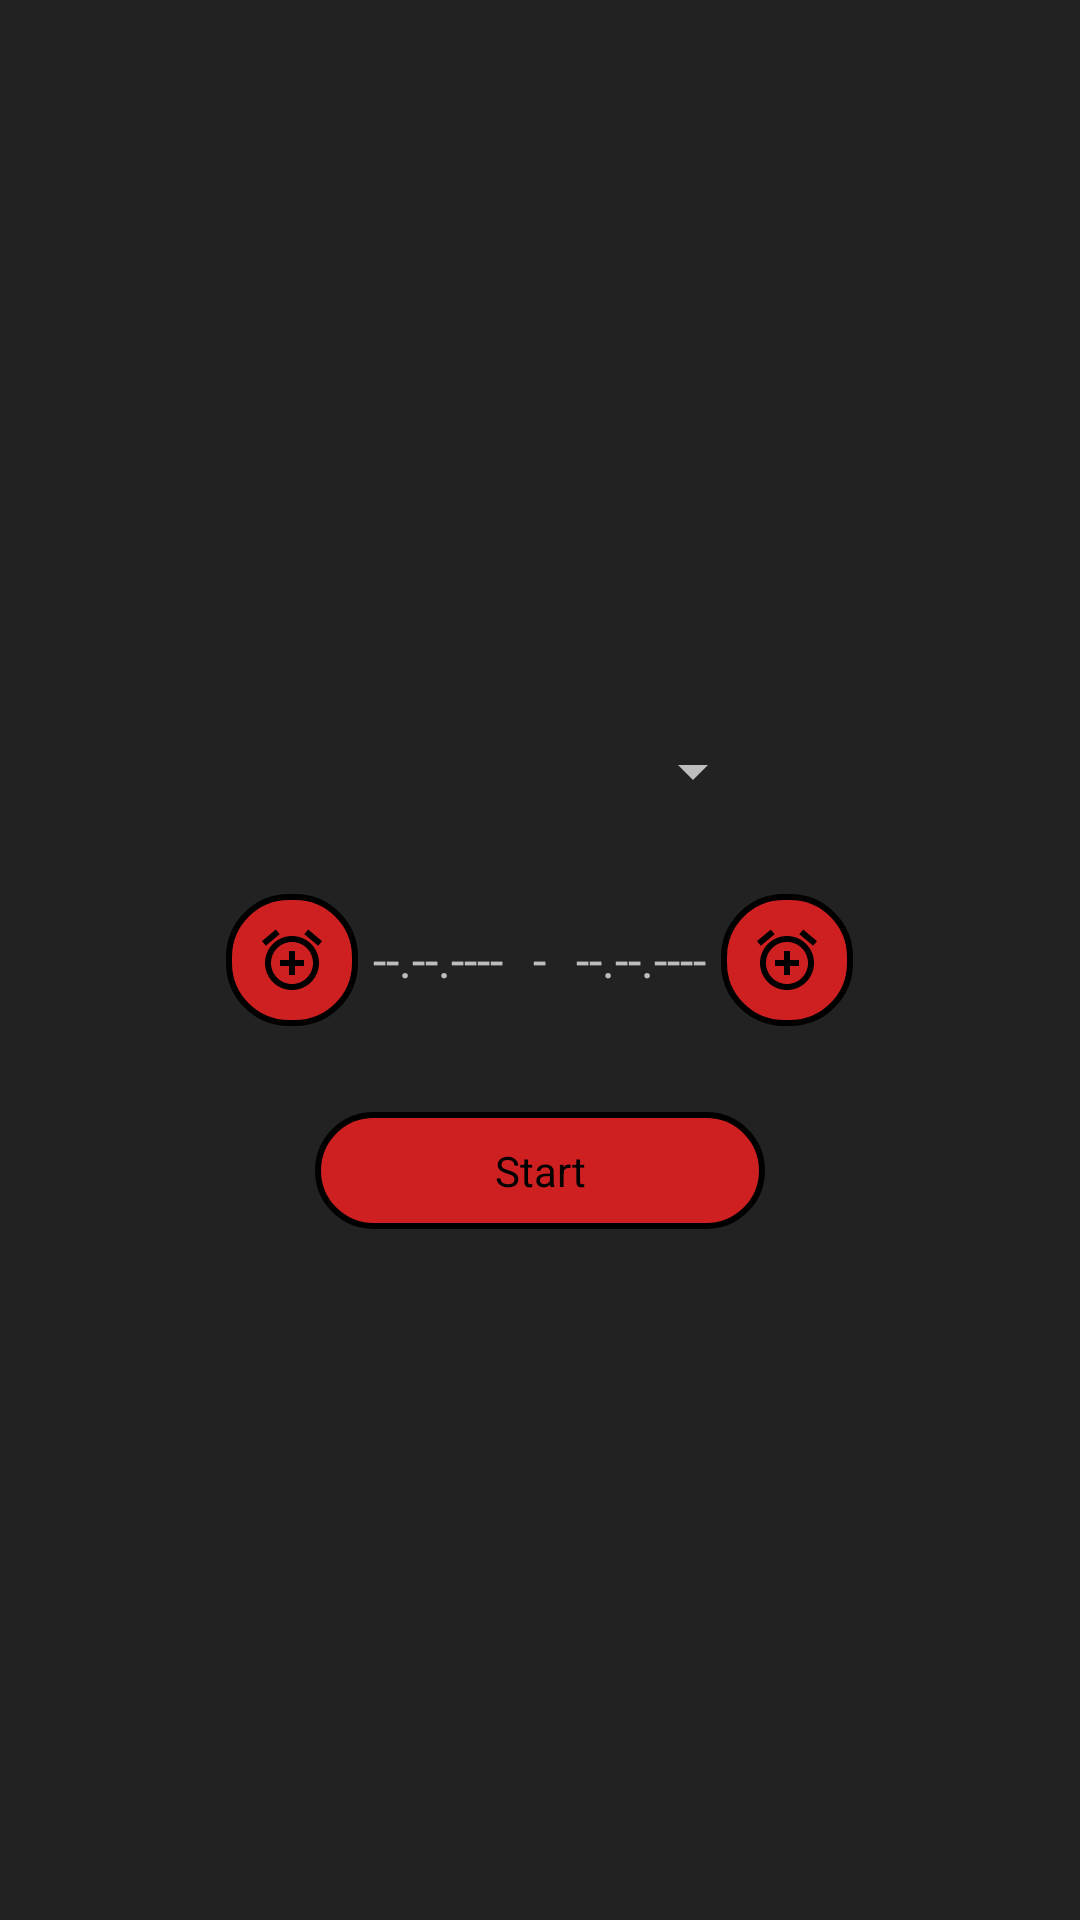

Named icons in this screenshot (1080*1920) and their bounding boxes, bbox(x1, y1, x2, y2):
clock: bbox(226, 894, 358, 1026), bbox(721, 894, 853, 1026)
